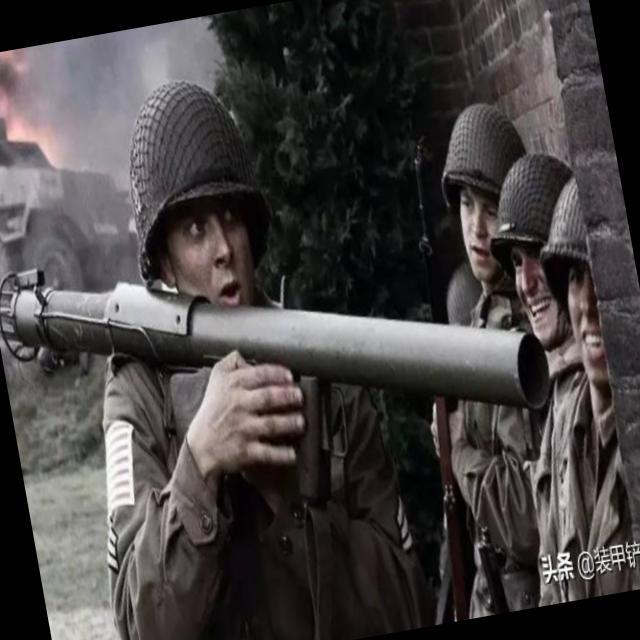rocket: (0, 175, 556, 499)
